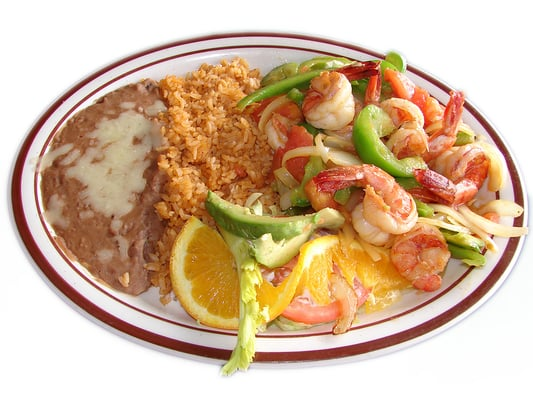sushi: (10, 40, 515, 370)
taco: (170, 217, 241, 331)
